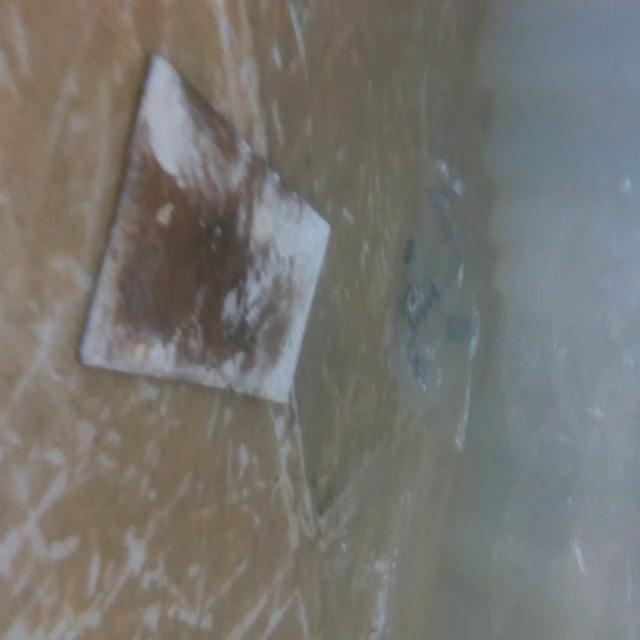metal: (83, 54, 323, 416)
plastic bags: (387, 139, 497, 490)
